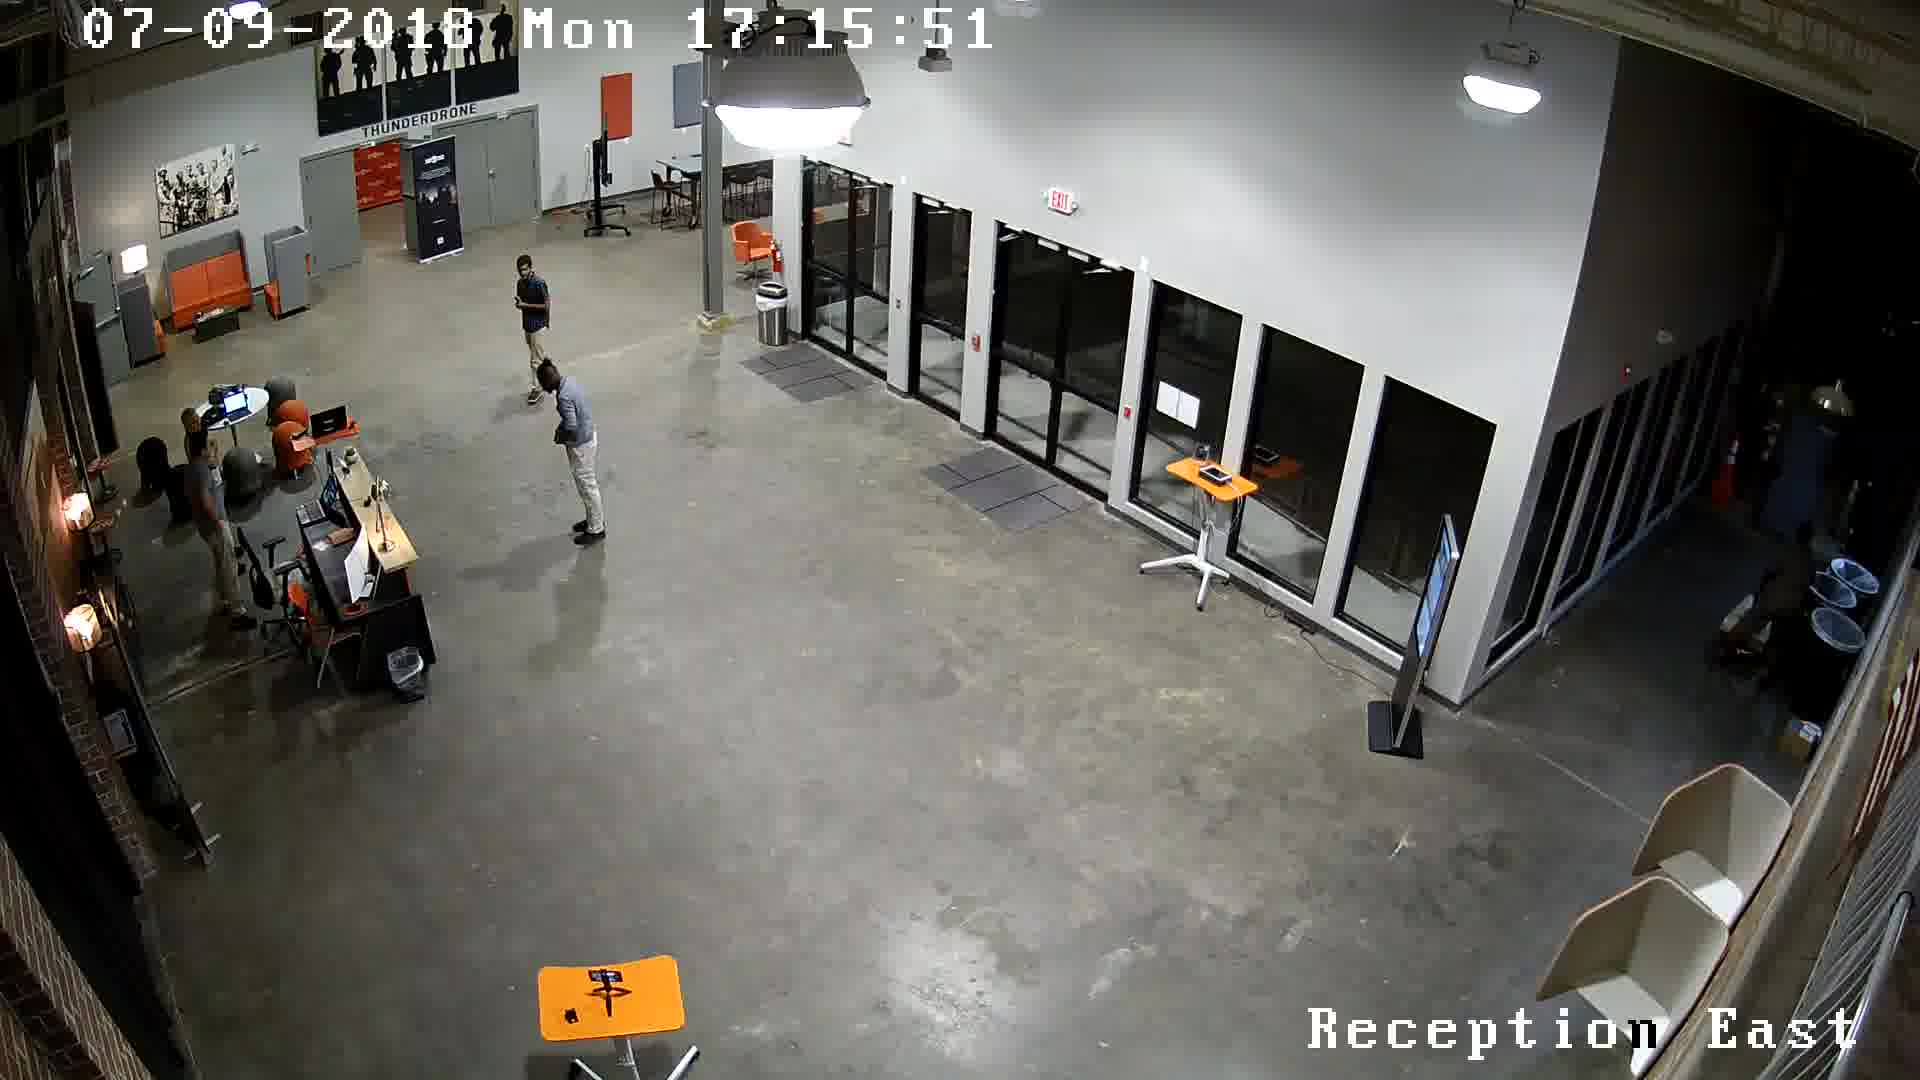pistol: (506, 294, 529, 319)
